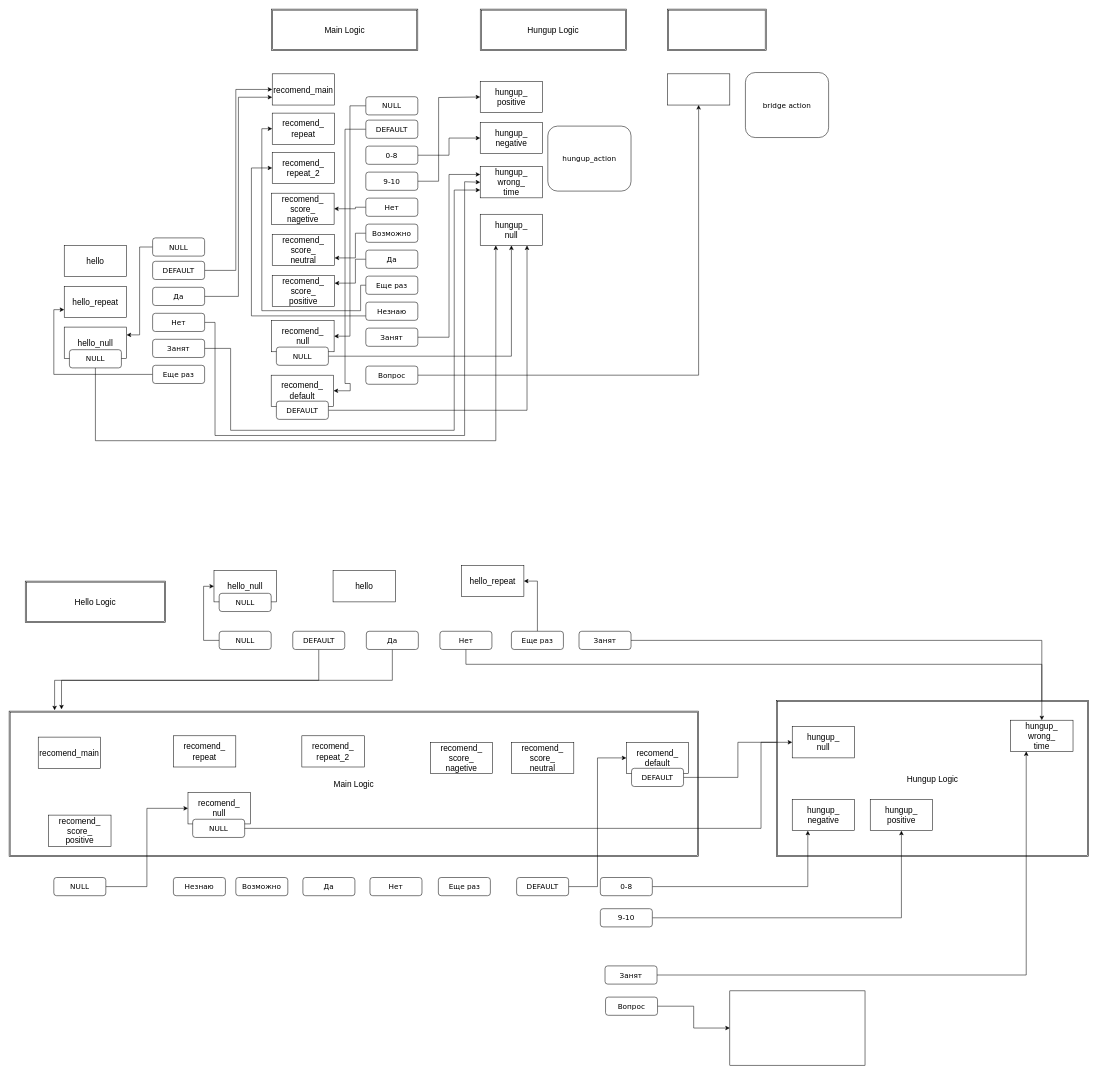
Some shapes in this 1098 by 1074 pixel diagram are drawn without their labels. The shapes that lost their labels are listed below. From the top down, each one's box as (x1, y1, x2, y2) in pixels, then its label:
(667, 9, 766, 51): Forward Logic
(667, 73, 730, 105): forward
(729, 990, 865, 1065): Hungup_logic
